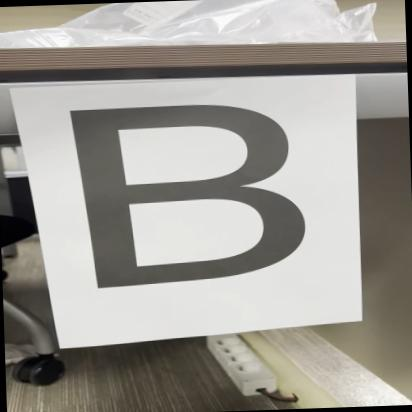seat: (52, 88, 326, 313)
